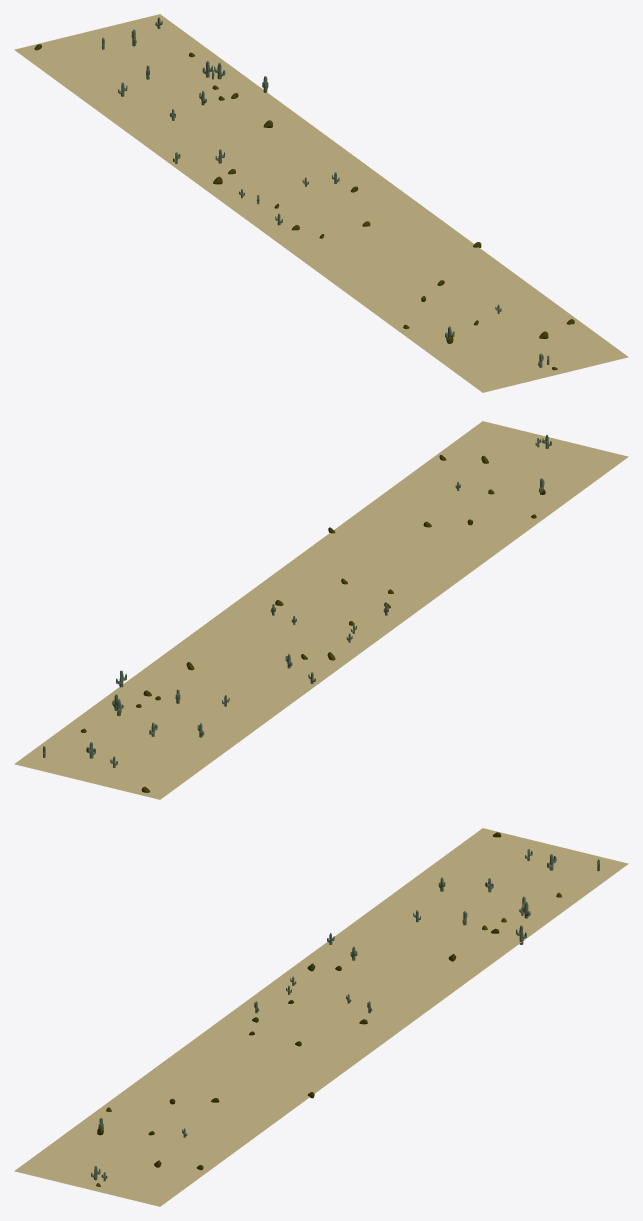
File: desert chunk right.fbx
3 views of the same model, one above another, from view 1: azimuth 30°, elevation 25°; view 2: azimuth 150°, elevation 25°; view 3: azimuth 330°, elevation 25° (orthographic).
Parts seen in each view (by area): view 1: Plane.012; view 2: Plane.012; view 3: Plane.012.
Part boxes in pixels (box(x1,y1,x2,y2)): Plane.012: box(14, 14, 628, 392); Plane.012: box(14, 421, 628, 799); Plane.012: box(14, 828, 628, 1206).
Size of the model in its own units: 3675 by 509 by 20000.
